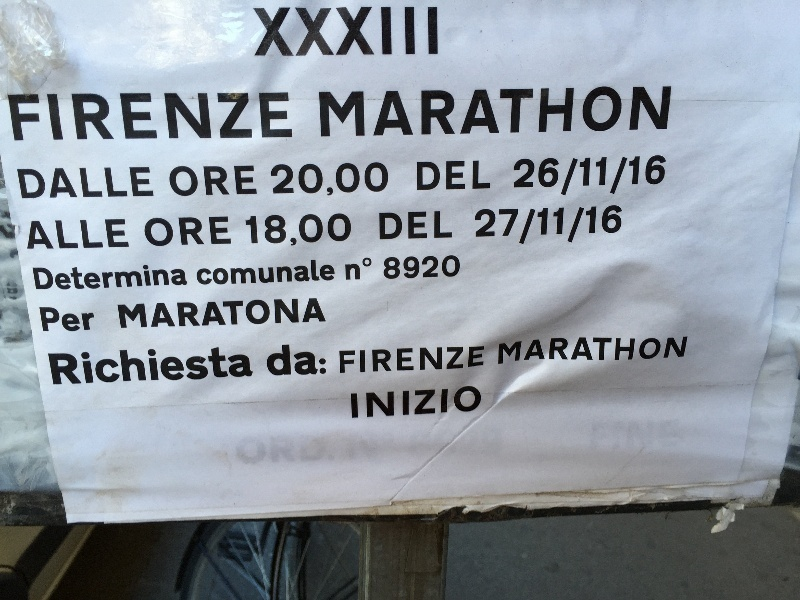text: (657, 86, 673, 141), (321, 86, 336, 141), (337, 86, 352, 141), (353, 86, 368, 141), (369, 86, 384, 141), (385, 86, 400, 141), (401, 86, 416, 141), (417, 86, 432, 141), (433, 86, 448, 141), (449, 86, 464, 141), (465, 86, 480, 141), (481, 86, 496, 141), (497, 86, 512, 141), (513, 86, 528, 141), (529, 86, 544, 141), (545, 86, 560, 141), (561, 86, 576, 141), (577, 86, 592, 141), (593, 86, 608, 141), (609, 86, 624, 141), (625, 86, 640, 141), (641, 86, 656, 141), (257, 6, 272, 59), (273, 6, 288, 59), (289, 6, 304, 59), (305, 6, 320, 59), (321, 6, 336, 59), (337, 6, 352, 59), (353, 6, 368, 59), (369, 6, 384, 59), (385, 6, 400, 59), (401, 6, 416, 59), (417, 6, 432, 59), (17, 93, 32, 146), (33, 93, 48, 146), (49, 93, 64, 146), (65, 93, 80, 146), (81, 93, 96, 146), (97, 93, 112, 146), (113, 93, 128, 146), (129, 93, 144, 146), (145, 93, 160, 146), (161, 93, 176, 146), (177, 93, 192, 146), (193, 93, 208, 146), (209, 93, 224, 146), (225, 93, 240, 146), (241, 93, 256, 146), (257, 93, 272, 146), (273, 93, 288, 146), (609, 204, 625, 252), (481, 204, 496, 252), (497, 204, 512, 252), (513, 204, 528, 252), (529, 204, 544, 252), (545, 204, 560, 252), (561, 204, 576, 252), (577, 204, 592, 252), (593, 204, 608, 252), (529, 154, 544, 200), (545, 154, 560, 200), (561, 154, 576, 200), (577, 154, 592, 200), (593, 154, 608, 200), (609, 154, 624, 200), (625, 154, 640, 200), (641, 154, 656, 200), (49, 346, 64, 388), (65, 346, 80, 388), (81, 346, 96, 388), (97, 346, 112, 388), (113, 346, 128, 388), (129, 346, 144, 388), (145, 346, 160, 388), (161, 346, 176, 388), (177, 346, 192, 388), (193, 346, 208, 388), (209, 346, 224, 388), (225, 346, 240, 388), (515, 154, 528, 200), (273, 162, 288, 201), (289, 162, 304, 201), (305, 162, 320, 201), (321, 162, 336, 201), (337, 162, 352, 201), (353, 162, 368, 201), (369, 162, 384, 201), (177, 164, 192, 202), (193, 164, 208, 202), (209, 164, 224, 202), (225, 164, 240, 202), (241, 164, 256, 202), (257, 213, 272, 250), (273, 213, 288, 250), (289, 213, 304, 250), (305, 213, 320, 250), (321, 213, 336, 250), (337, 213, 352, 250), (17, 167, 32, 203), (33, 167, 48, 203), (49, 167, 64, 203), (65, 167, 80, 203), (81, 167, 96, 203), (97, 167, 112, 203), (113, 167, 128, 203), (129, 167, 144, 203), (145, 215, 160, 251), (161, 215, 176, 251), (177, 215, 192, 251), (193, 215, 208, 251), (209, 215, 224, 251), (6, 93, 16, 146), (417, 159, 432, 194), (433, 159, 448, 194), (449, 159, 464, 194), (465, 159, 480, 194), (33, 217, 48, 252), (49, 217, 64, 252), (65, 217, 80, 252), (81, 217, 96, 252), (97, 217, 112, 252), (113, 217, 128, 252), (273, 343, 288, 378), (289, 343, 304, 378), (305, 343, 320, 378), (353, 386, 368, 421), (369, 386, 384, 421), (385, 386, 400, 421), (401, 386, 416, 421), (417, 386, 432, 421), (433, 386, 448, 421), (449, 386, 464, 421), (465, 386, 480, 421), (673, 334, 689, 366), (657, 154, 668, 200), (241, 346, 253, 388), (385, 210, 400, 243), (401, 210, 416, 243), (417, 210, 432, 243), (433, 210, 448, 243), (129, 298, 144, 330), (145, 298, 160, 330), (161, 298, 176, 330), (177, 298, 192, 330), (193, 298, 208, 330), (209, 298, 224, 330), (225, 298, 240, 330), (241, 298, 256, 330), (257, 298, 272, 330), (273, 298, 288, 330), (289, 298, 304, 330), (305, 298, 320, 330), (513, 334, 528, 366), (529, 334, 544, 366), (545, 334, 560, 366), (561, 334, 576, 366), (577, 334, 592, 366), (593, 334, 608, 366), (609, 334, 624, 366), (625, 334, 640, 366), (641, 334, 656, 366), (657, 334, 672, 366), (209, 258, 224, 289), (225, 258, 240, 289), (241, 258, 256, 289), (257, 258, 272, 289), (273, 258, 288, 289), (289, 258, 304, 289), (305, 258, 320, 289), (321, 258, 336, 289), (353, 345, 368, 376), (369, 345, 384, 376), (385, 345, 400, 376), (401, 345, 416, 376), (417, 345, 432, 376), (433, 345, 448, 376), (449, 345, 464, 376), (465, 345, 480, 376), (81, 306, 97, 334), (338, 345, 352, 376), (289, 93, 297, 146), (481, 159, 493, 194), (33, 264, 48, 292), (49, 264, 64, 292), (65, 264, 80, 292), (81, 264, 96, 292), (97, 264, 112, 292), (113, 264, 128, 292), (129, 264, 144, 292), (145, 264, 160, 292), (161, 264, 176, 292), (49, 306, 64, 334), (65, 306, 80, 334), (499, 334, 512, 366), (245, 213, 256, 250), (385, 254, 400, 281), (401, 254, 416, 281), (417, 254, 432, 281), (433, 254, 448, 281), (145, 167, 156, 203), (353, 257, 368, 282), (433, 6, 440, 59), (197, 258, 208, 289), (177, 264, 189, 292), (225, 215, 234, 251), (449, 254, 461, 281), (118, 298, 128, 330), (168, 164, 176, 202), (39, 306, 48, 334), (475, 204, 480, 252), (321, 343, 327, 378), (385, 162, 390, 201), (321, 298, 327, 330), (345, 257, 352, 282), (267, 343, 272, 378), (379, 210, 384, 243), (449, 210, 454, 243), (253, 6, 256, 59), (481, 345, 485, 376), (269, 162, 272, 201), (257, 164, 260, 202), (318, 86, 320, 141), (369, 257, 372, 282), (31, 217, 32, 252), (129, 217, 130, 252), (351, 386, 352, 421), (481, 386, 482, 421)
